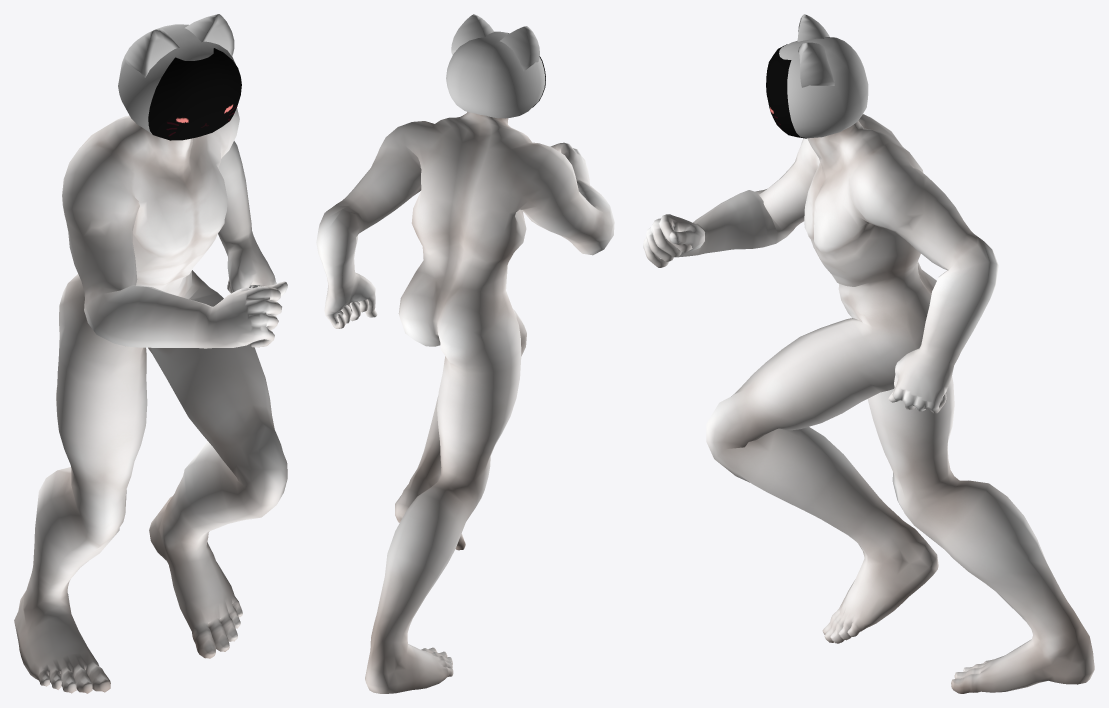
The picture shows the model from 3 angles, left to right: view 1: azimuth 30°, elevation 25°; view 2: azimuth 150°, elevation 25°; view 3: azimuth 270°, elevation 25°; orthographic projection. The views are drawn at different scales.
Parts seen in each view (by area): view 1: Muscle_Body, ______?001, Cat_Head; view 2: Muscle_Body, Cat_Head; view 3: Muscle_Body, Cat_Head, ______?001.
Part boxes in pixels (<box>): Muscle_Body: <box>14,108,287,693</box>; ______?001: <box>148,48,241,140</box>; Cat_Head: <box>118,14,235,133</box>; Muscle_Body: <box>316,112,614,693</box>; Cat_Head: <box>446,14,545,118</box>; Muscle_Body: <box>643,114,1094,693</box>; Cat_Head: <box>779,14,868,138</box>; ______?001: <box>766,44,806,138</box>.
Size of the model in its own units: 10.26 by 27.32 by 16.86.
